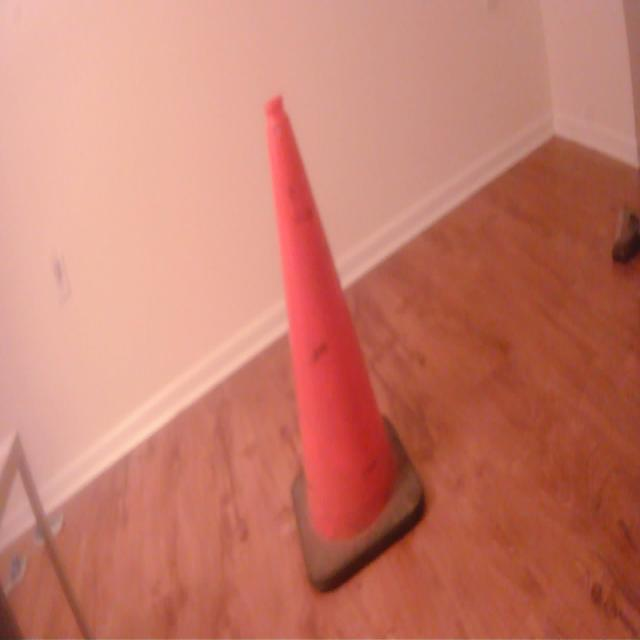traffic cone: (262, 86, 435, 601)
